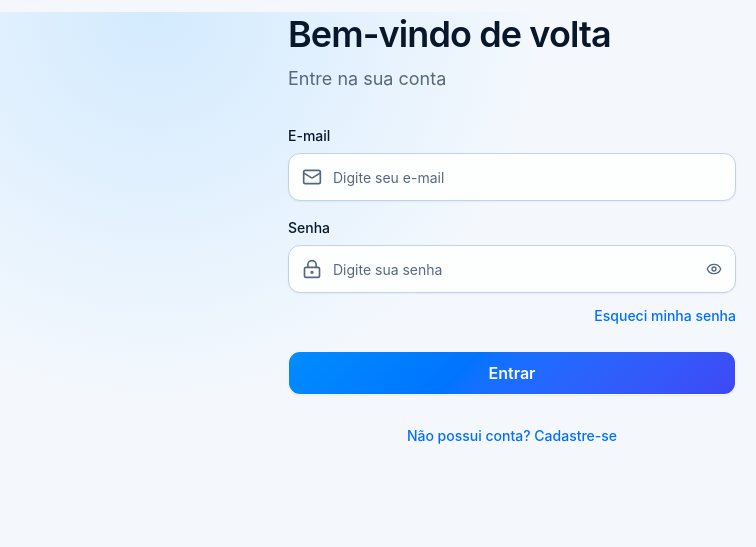
Test: LoginForm › shows authentication feedback and toggles password visibility
Type "usuario@lucrivo.com" into the field labelled "E-mail". click: (512, 177)
box: [288,153,736,201]
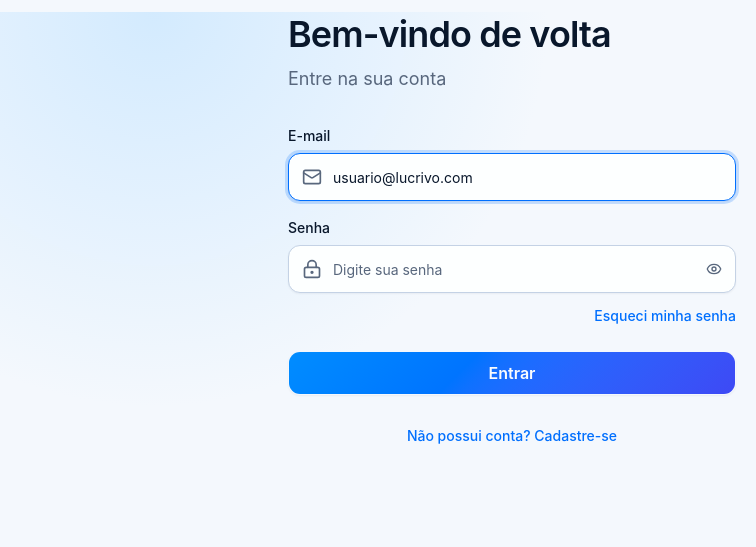
Type "senha-segura" into the password field labelled "Senha". click: (512, 269)
box: [288,245,736,293]
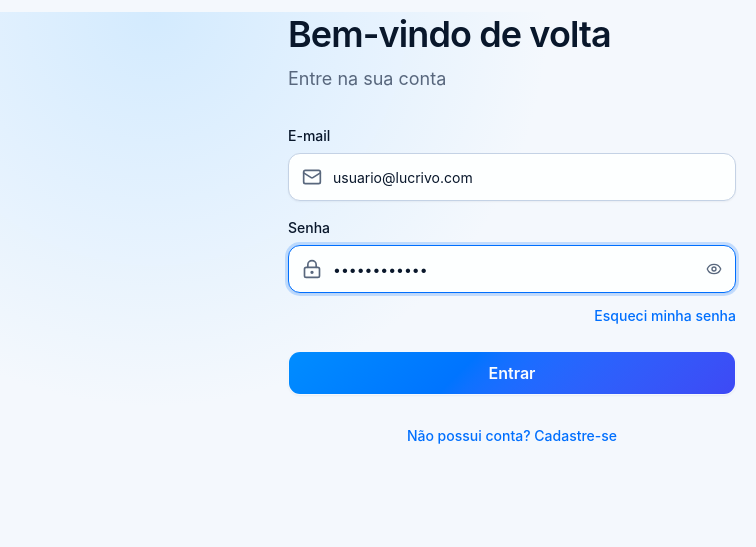
Click the button "Entrar". click: (512, 373)
box: [288,351,736,395]
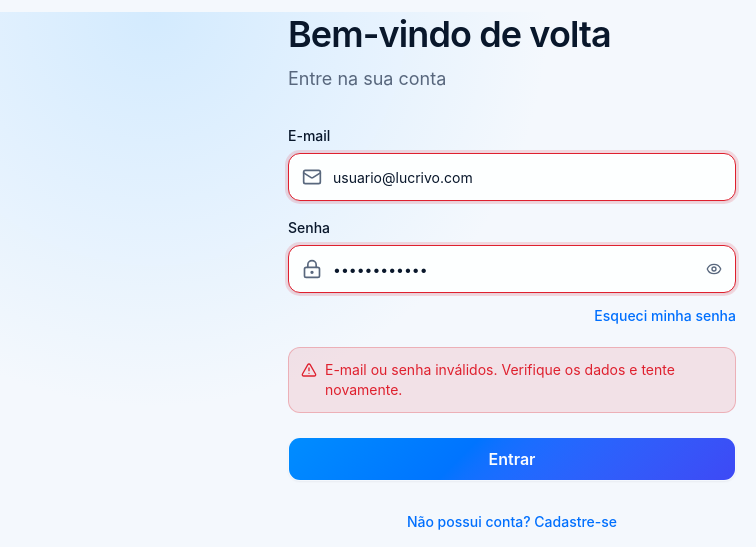
Expected: the message shows "E-mail ou senha inválidos", [325,361,675,398]
Click the button named "Mostrar senha". click: (714, 269)
box: [700,255,728,283]
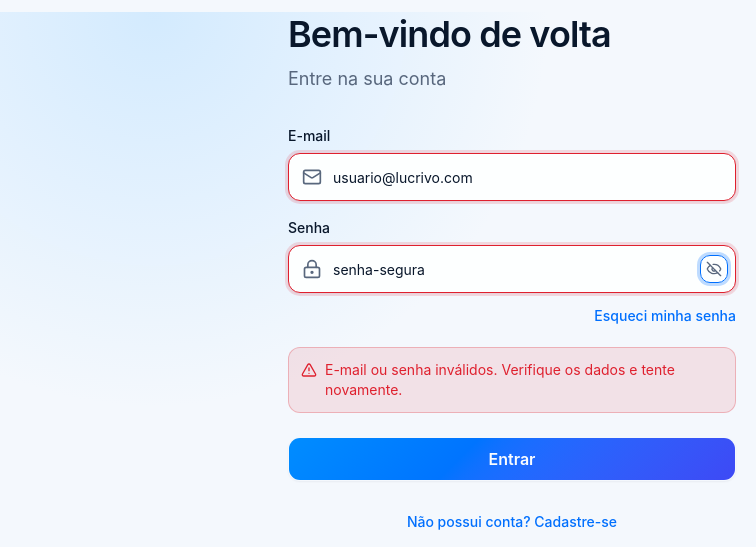
Expected: the field labelled "Senha" shows its text, [288,245,736,293]
Expected: the button named "Ocultar senha" is shown, [700,255,728,283]
